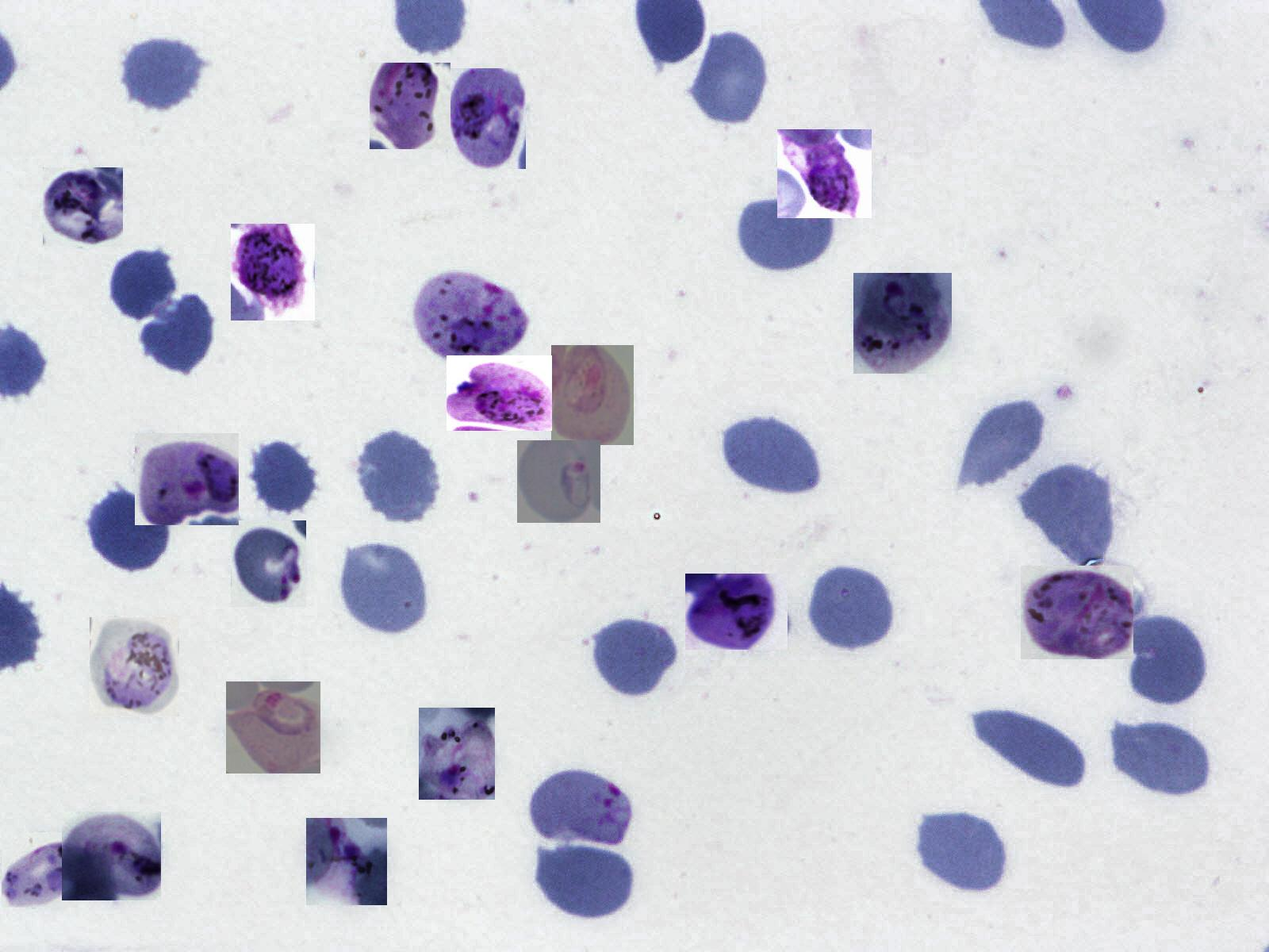Infected: (412, 270, 529, 360), (1021, 566, 1133, 659), (853, 273, 952, 374), (135, 433, 239, 525), (90, 617, 179, 716), (226, 681, 320, 774), (529, 766, 633, 850), (62, 812, 161, 900), (777, 129, 872, 218), (551, 345, 634, 445), (231, 224, 315, 321), (447, 355, 552, 431), (448, 68, 526, 169), (685, 574, 788, 650), (306, 818, 387, 905), (419, 708, 495, 800), (517, 440, 600, 523), (370, 63, 450, 149), (231, 520, 306, 607), (43, 167, 123, 247), (2, 832, 79, 908)
Uninfected: (968, 710, 1087, 793), (1022, 461, 1116, 566), (337, 538, 431, 640), (720, 413, 824, 497), (1109, 716, 1213, 800), (911, 806, 1009, 895), (1123, 611, 1210, 710), (806, 560, 896, 655), (353, 428, 440, 526), (958, 393, 1046, 489), (689, 27, 770, 131), (734, 193, 837, 274), (534, 842, 637, 923), (589, 613, 679, 700), (86, 488, 173, 576), (119, 32, 205, 113), (139, 290, 218, 376), (246, 436, 320, 517), (107, 247, 181, 325)
